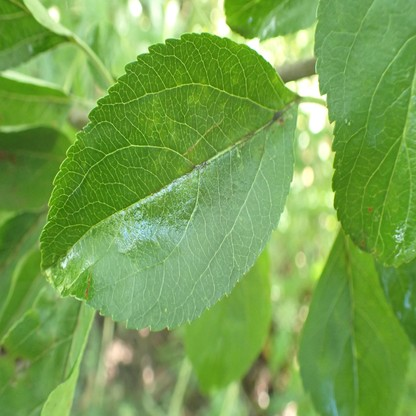scab: (11, 356, 29, 388), (230, 131, 253, 153), (263, 110, 284, 133), (41, 335, 57, 362), (252, 138, 267, 162), (186, 163, 209, 174), (0, 344, 9, 358)
